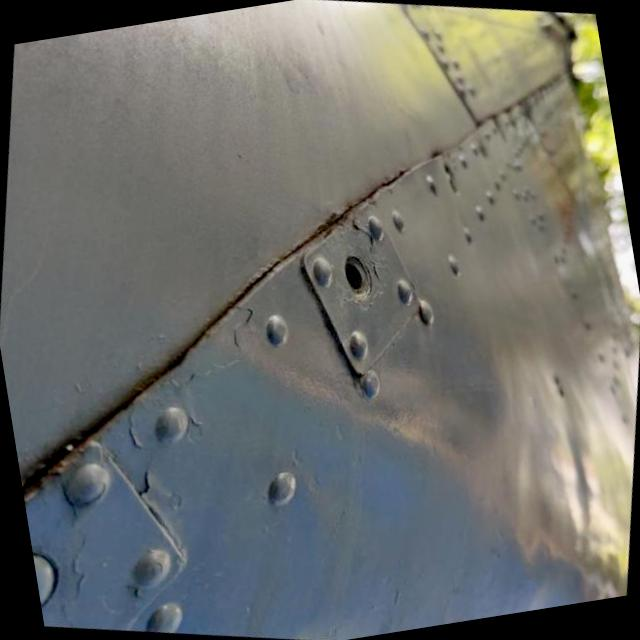Missing Fastener: (341, 252, 374, 302)
